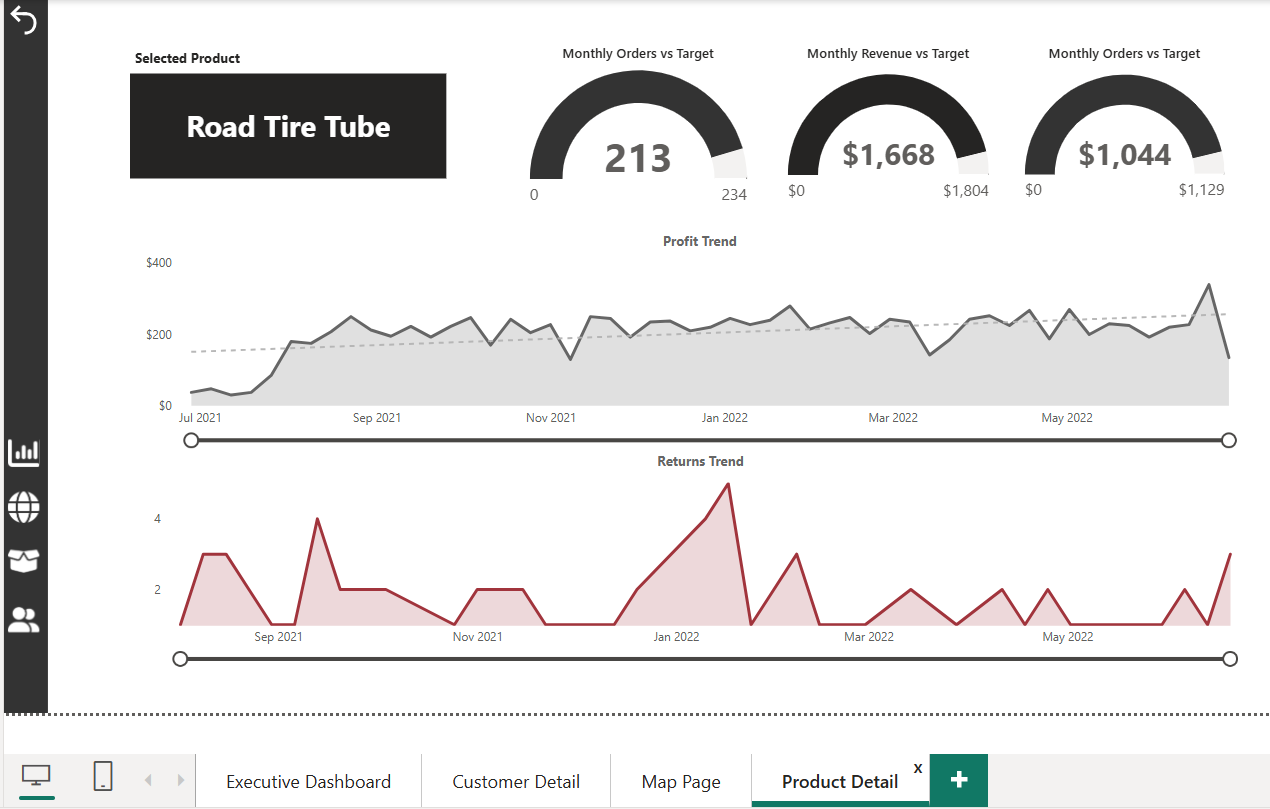

Layout of this report page (visuals, bound fields, positions):
{"tool":"powerbi","page":{"name":"Product Detail","canvas":[1280,720],"ordinal":3},"visuals":[{"type":"gauge","title":"Monthly Orders vs Target","fields":{"Y":["Measure Table.Total Orders"],"TargetValue":["Measure Table.Order Target"]},"box":[525,44.1,229.4,176.5],"z":0},{"type":"gauge","title":"Monthly Revenue vs Target","fields":{"Y":["Measure Table.Total Revenue"],"TargetValue":["Measure Table.Revenue Target"]},"box":[785.3,44.1,213.2,176.5],"z":1000},{"type":"gauge","title":"Monthly Orders vs Target","fields":{"Y":["Measure Table.Total Profit"],"TargetValue":["Measure Table.Profit Target"]},"box":[1025,44.1,211.8,176.5],"z":2000},{"type":"lineChart","title":"Profit Trend ","fields":{"Y":["Measure Table.Total Profit"],"Category":["Calendar Lookup.Date Hierarchy.Year","Calendar Lookup.Date Hierarchy.Start of Month","Calendar Lookup.Date Hierarchy.Start of Week","Calendar Lookup.Date Hierarchy.Date"]},"box":[138.2,233.8,1129.4,222.1],"z":3000},{"type":"shape","title":"Left Navbar","box":[0,0,44.3,719.8],"z":4000,"group":"g1"},{"type":"lineChart","title":"Returns Trend","fields":{"Y":["Measure Table.Total Returns"],"Category":["Calendar Lookup.Date Hierarchy.Year","Calendar Lookup.Date Hierarchy.Start of Month","Calendar Lookup.Date Hierarchy.Start of Week","Calendar Lookup.Date Hierarchy.Date"]},"box":[138.2,455.9,1130.9,220.6],"z":4000},{"type":"actionButton","title":"Map","box":[0,492.6,44.1,39.7],"z":4125,"group":"g1"},{"type":"actionButton","title":"Customer Button","box":[0,605.9,44.1,39.7],"z":4250,"group":"g1"},{"type":"card","fields":{"Values":["Min(Product Lookup.ProductName)"]},"box":[127.9,73.5,319.1,105.9],"z":5000},{"type":"actionButton","title":"Product","box":[0,547.1,44.1,39.7],"z":5500,"group":"g1"},{"type":"textbox","box":[127.9,44.1,182.4,29.4],"z":6000},{"type":"actionButton","title":"Exec Dashboard","box":[0,438.2,44.1,39.7],"z":6000,"group":"g1"},{"type":"actionButton","title":"Bookmark","box":[0,0,44.1,39.7],"z":6500,"group":"g1"},{"type":"group","id":"g1","title":"Left Bar","box":[0,0,44.3,719.8],"z":7000}]}

Visuals, with their boxes in screenshot pixels (x1, y1, x2, y2):
"Monthly Orders vs Target" gauge: (x1=514, y1=37, x2=738, y2=209)
"Monthly Revenue vs Target" gauge: (x1=768, y1=37, x2=977, y2=209)
"Monthly Orders vs Target" gauge: (x1=1003, y1=37, x2=1210, y2=209)
"Profit Trend " lineChart: (x1=135, y1=222, x2=1240, y2=439)
"Left Navbar" shape: (x1=0, y1=0, x2=43, y2=698)
"Returns Trend" lineChart: (x1=135, y1=439, x2=1242, y2=655)
"Map" actionButton: (x1=0, y1=475, x2=43, y2=514)
"Customer Button" actionButton: (x1=0, y1=586, x2=43, y2=625)
card - Min(Product Lookup.ProductName): (x1=125, y1=65, x2=437, y2=169)
"Product" actionButton: (x1=0, y1=529, x2=43, y2=568)
textbox: (x1=125, y1=37, x2=304, y2=65)
"Exec Dashboard" actionButton: (x1=0, y1=422, x2=43, y2=461)
"Bookmark" actionButton: (x1=0, y1=0, x2=43, y2=32)
"Left Bar" group: (x1=0, y1=0, x2=43, y2=698)
